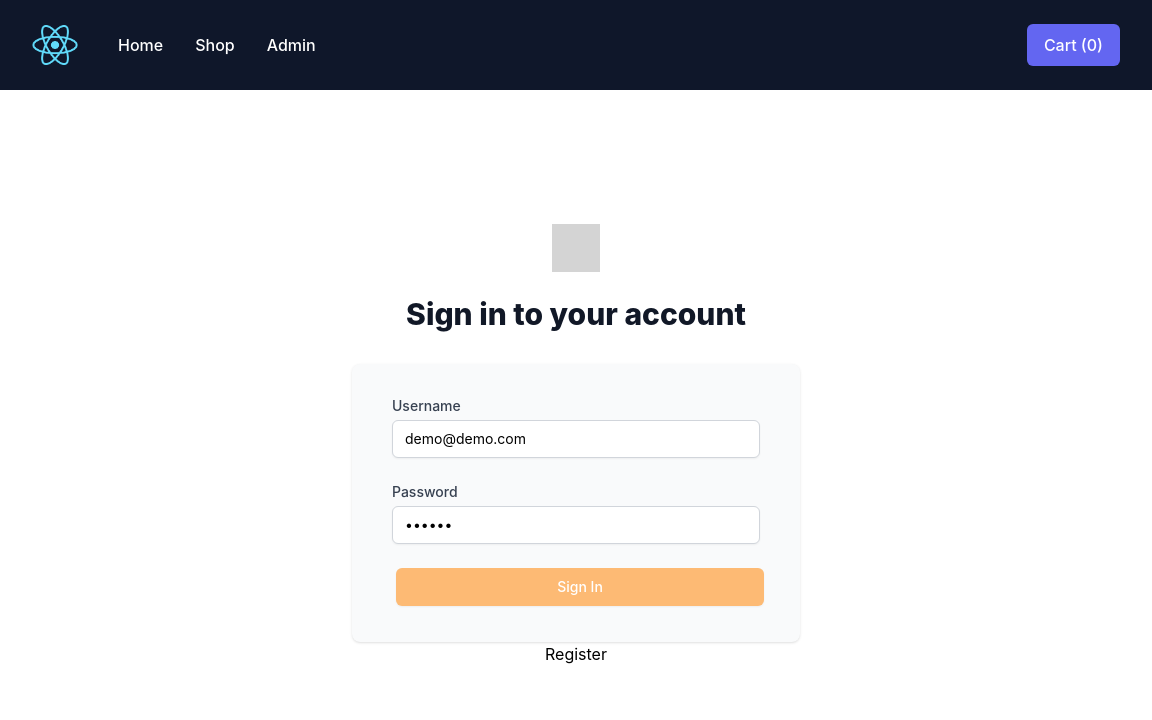
it: Login › should enable the "SignIn Button" when form is valid
Clear the field named "username": (576, 439) [392, 420, 760, 458]
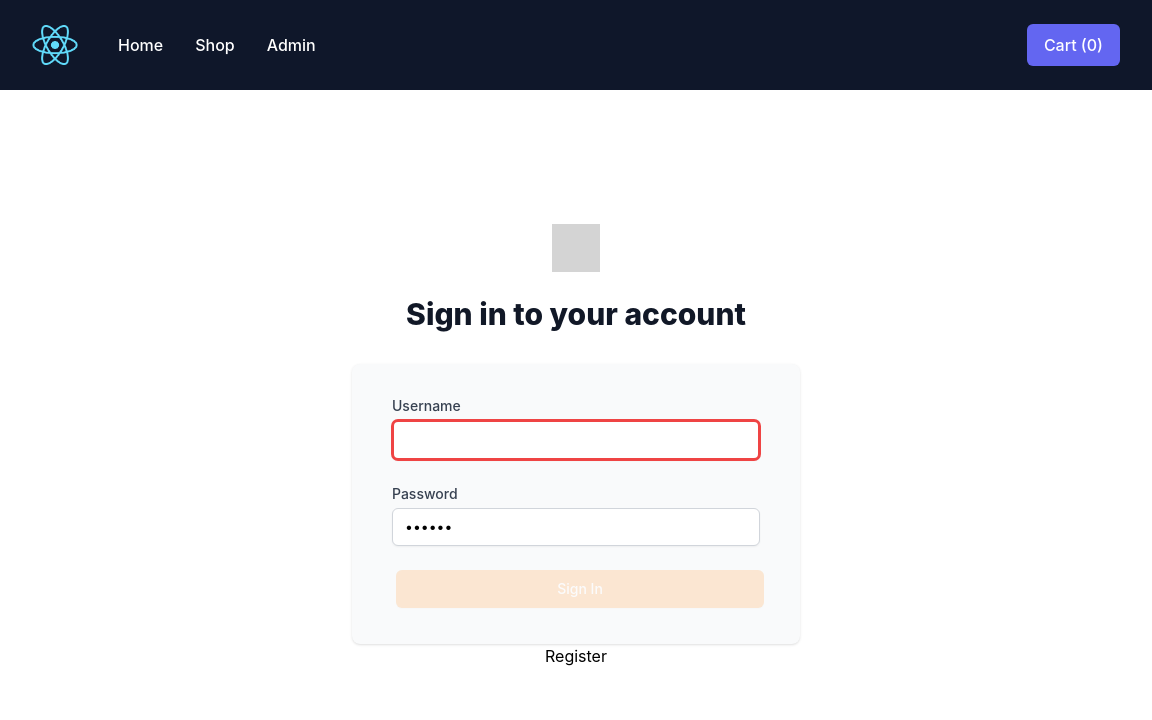
Clear the password field named "password": (576, 527) [392, 508, 760, 546]
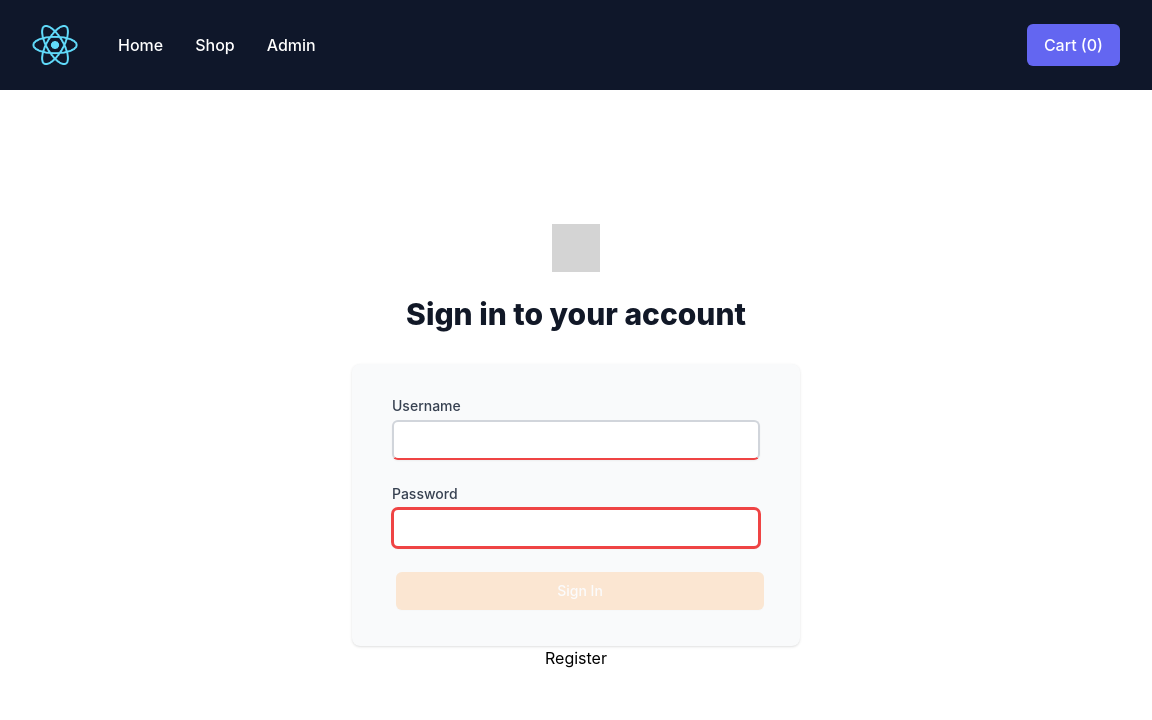
In the field named "username": (576, 440) [392, 420, 760, 460], type "mario@rossi.it"
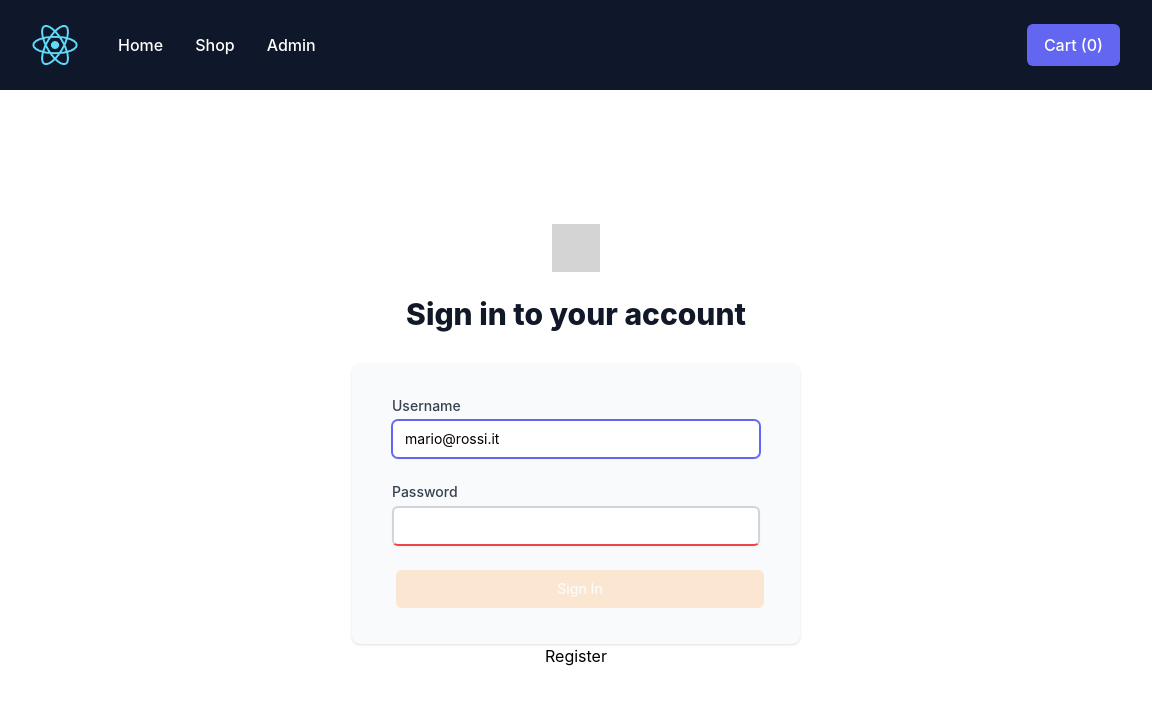
In the password field named "password": (576, 526) [392, 506, 760, 546], type "123456"
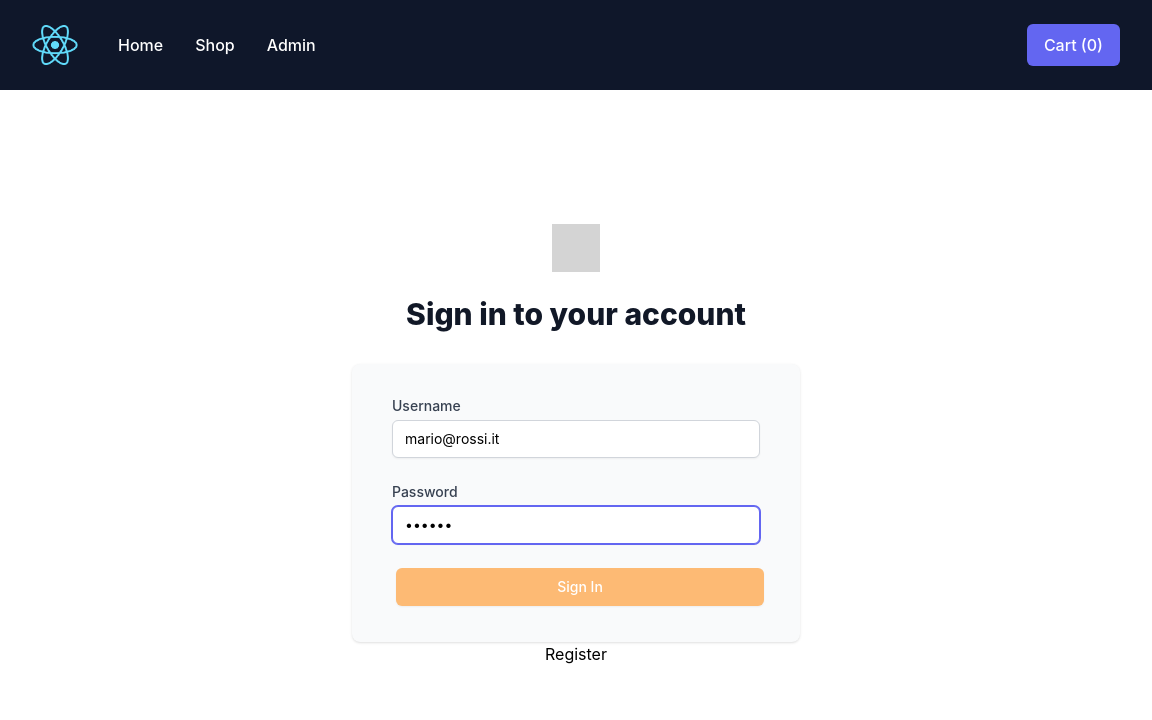
Expected: the button "Sign In" is enabled, [396, 568, 764, 606]
